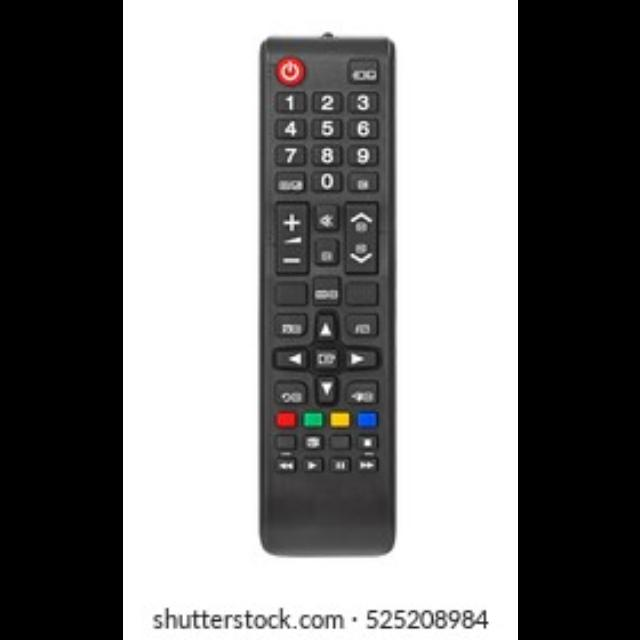TV-Remote-Control: (257, 34, 399, 562)
